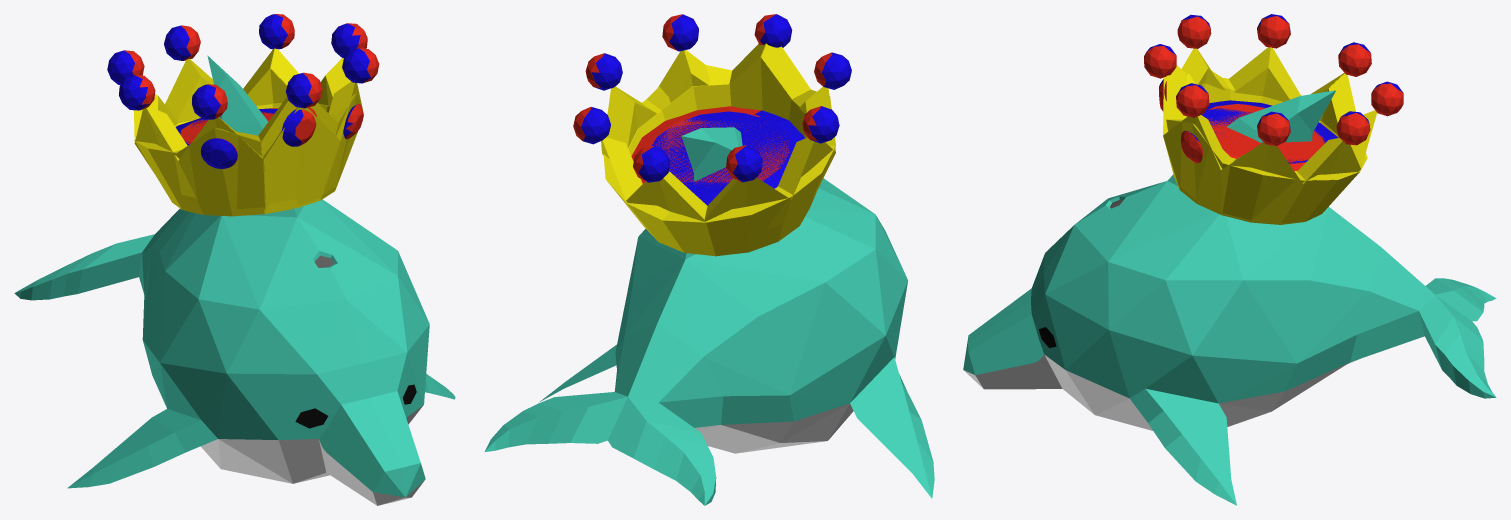
File: dolphin.glb
3 views of the same model, side by side, from view 1: azimuth 30°, elevation 25°; view 2: azimuth 150°, elevation 25°; view 3: azimuth 270°, elevation 25° (orthographic). The views are drawn at different scales.
Parts seen in each view (by area): view 1: Blue_Tiara, Blue_Crown, Red_Crown, Red_Tiara; view 2: Blue_Tiara, Blue_Crown, Red_Crown, Red_Tiara; view 3: Blue_Tiara, Red_Crown, Red_Tiara, Blue_Crown.
Boxes of the visible parts, box(x1,y1,x2,y2) form: Blue_Tiara: box(14, 55, 455, 505); Blue_Crown: box(107, 14, 370, 210); Red_Crown: box(124, 14, 379, 210); Red_Tiara: box(135, 93, 363, 212); Blue_Tiara: box(484, 43, 934, 505); Blue_Crown: box(581, 14, 851, 229); Red_Crown: box(573, 14, 832, 221); Red_Tiara: box(603, 43, 835, 252); Blue_Tiara: box(963, 65, 1496, 505); Red_Crown: box(1144, 16, 1403, 224); Red_Tiara: box(1159, 65, 1367, 224); Blue_Crown: box(1145, 14, 1402, 183).
Bounding box in the file's own units: 13.3 × 13.31 × 16.9.
Materials: 7 (2 with a texture image).
